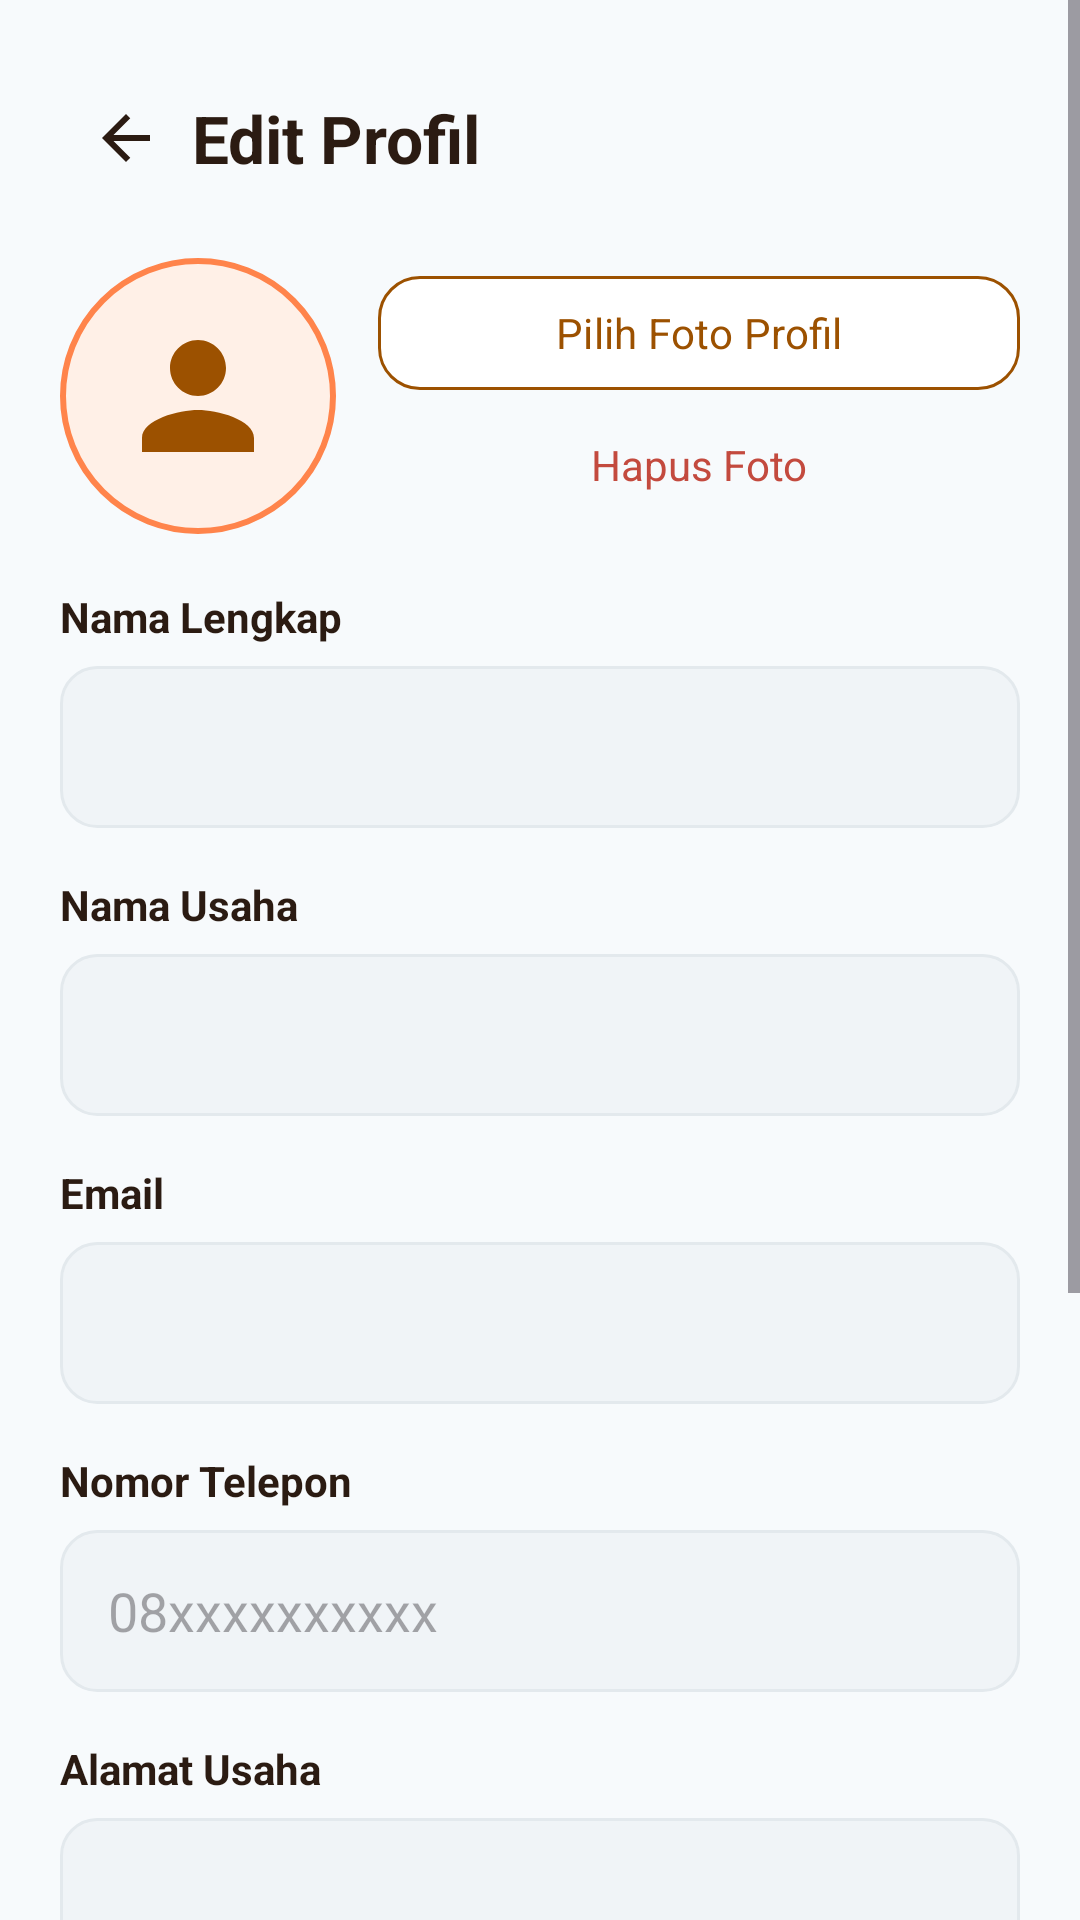

Where icons sit on this 1080px x 1920px app screen, as (x1, y1, x2, y2):
Kembali: (102, 114, 150, 162)
